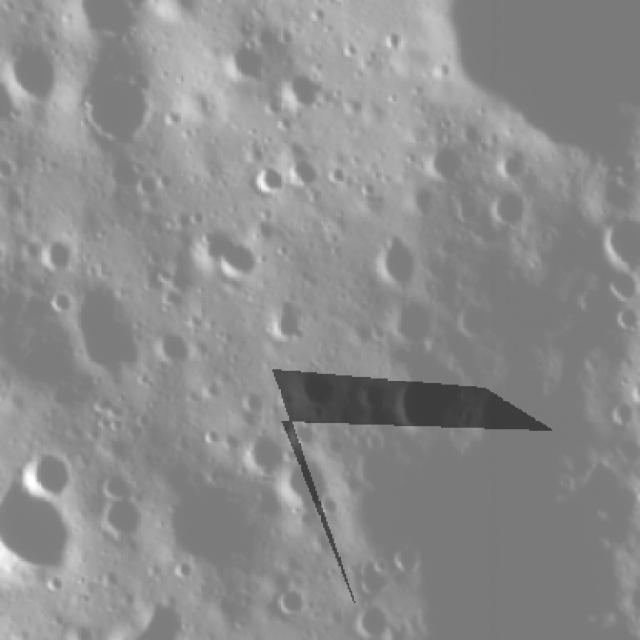crater: (427, 0, 640, 160), (64, 275, 156, 376), (72, 66, 159, 152), (0, 477, 72, 579), (389, 359, 468, 438), (199, 217, 270, 297), (97, 594, 205, 640), (583, 206, 640, 288), (4, 34, 62, 112), (214, 38, 286, 100), (274, 446, 335, 516), (89, 494, 156, 552), (14, 441, 81, 496), (279, 362, 346, 413), (228, 420, 287, 475), (375, 228, 428, 286), (386, 294, 445, 346), (410, 138, 470, 187), (270, 67, 330, 115), (33, 225, 87, 278), (74, 0, 148, 38), (263, 294, 309, 344), (268, 578, 320, 622), (485, 186, 532, 234), (350, 594, 398, 640), (353, 555, 398, 603), (492, 142, 538, 185), (154, 321, 197, 367), (282, 150, 326, 193), (241, 156, 288, 195), (348, 372, 388, 413), (598, 263, 640, 302), (95, 465, 138, 500), (606, 396, 640, 424), (49, 284, 76, 318), (627, 371, 640, 406)
